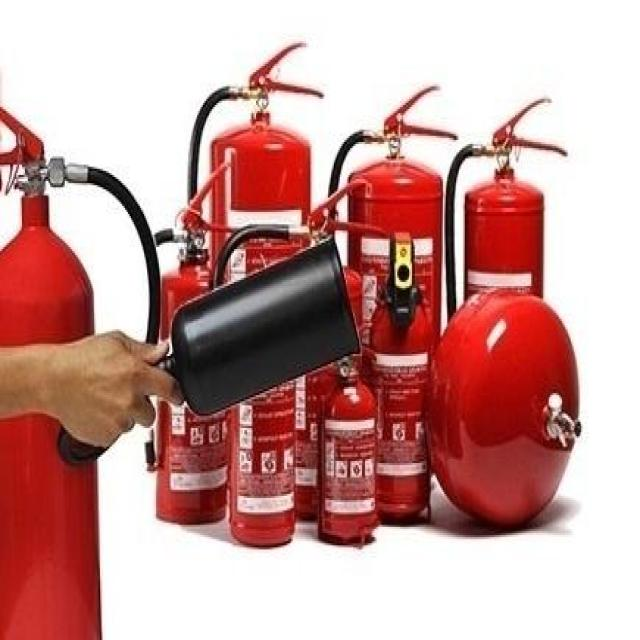fire_extinguisher: (0, 90, 360, 637), (178, 33, 325, 494), (316, 79, 461, 485), (438, 90, 572, 520), (123, 150, 264, 537), (417, 284, 576, 535), (277, 173, 387, 521), (224, 238, 307, 556), (357, 224, 439, 525), (312, 328, 388, 551)
